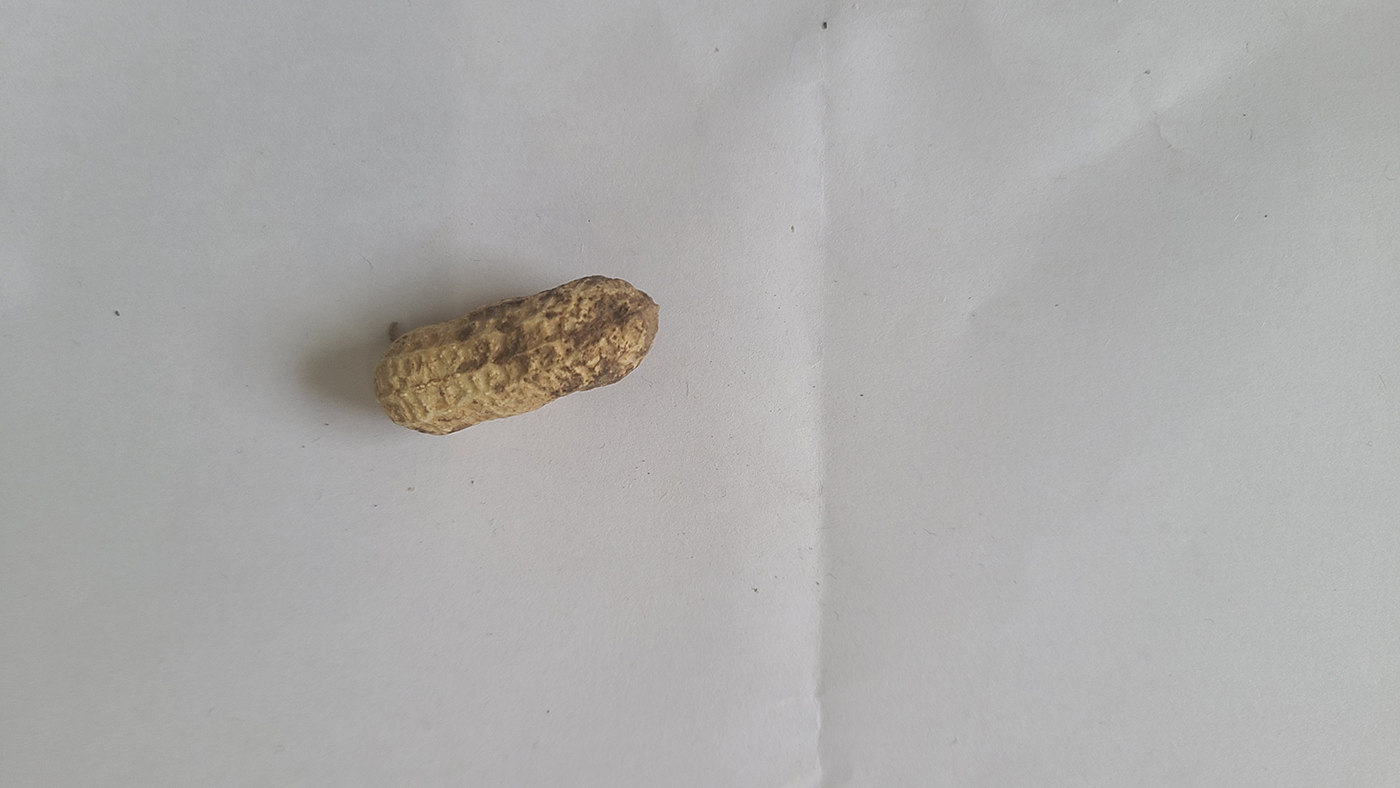h: (371, 272, 660, 435)
